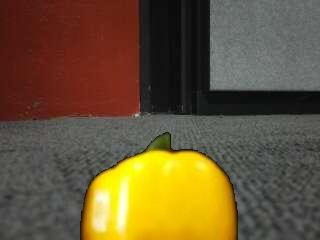Capsicum: (80, 133, 238, 240)
